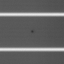dust: (30, 28, 35, 33)
